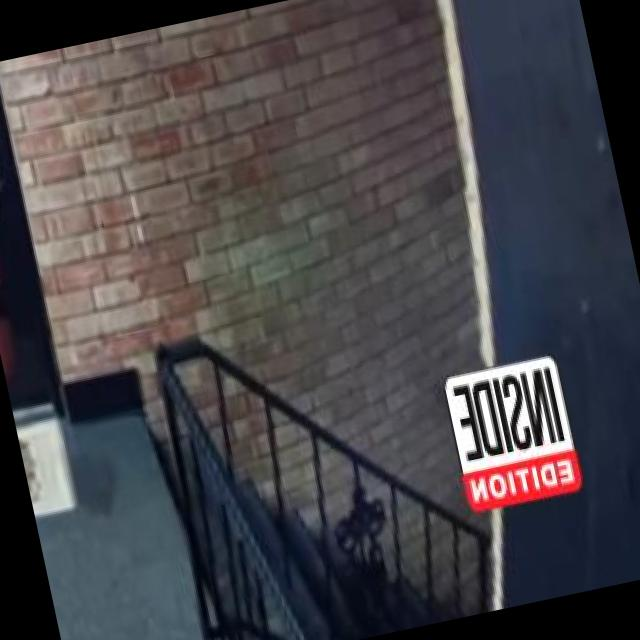Guns: (0, 151, 42, 322)
